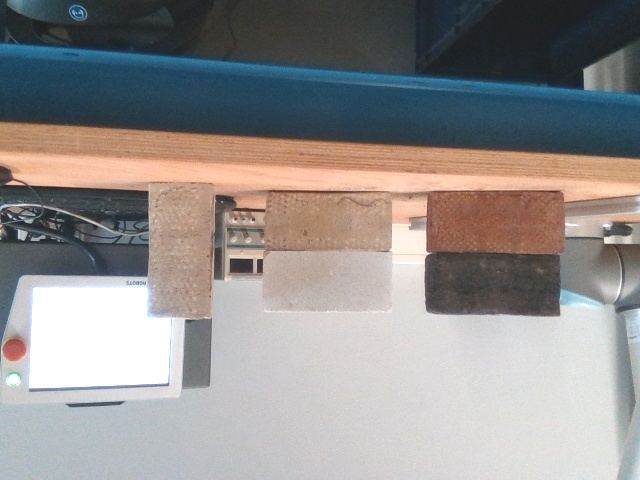brick: (148, 183, 207, 316), (427, 191, 560, 250), (264, 249, 388, 310), (426, 254, 556, 312), (266, 194, 390, 247)
